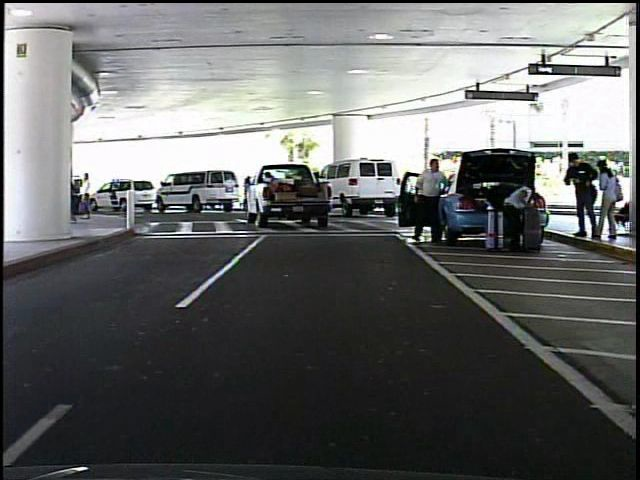person: (411, 157, 453, 245), (561, 149, 598, 243), (499, 174, 539, 253), (590, 157, 623, 248), (241, 174, 255, 211)
